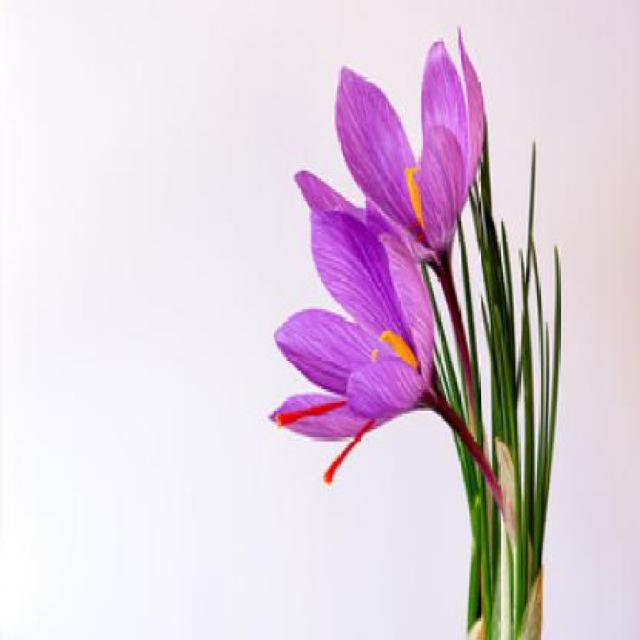Flower: (252, 173, 457, 481), (332, 50, 496, 278)
stigma: (322, 417, 378, 488), (272, 391, 354, 427)
